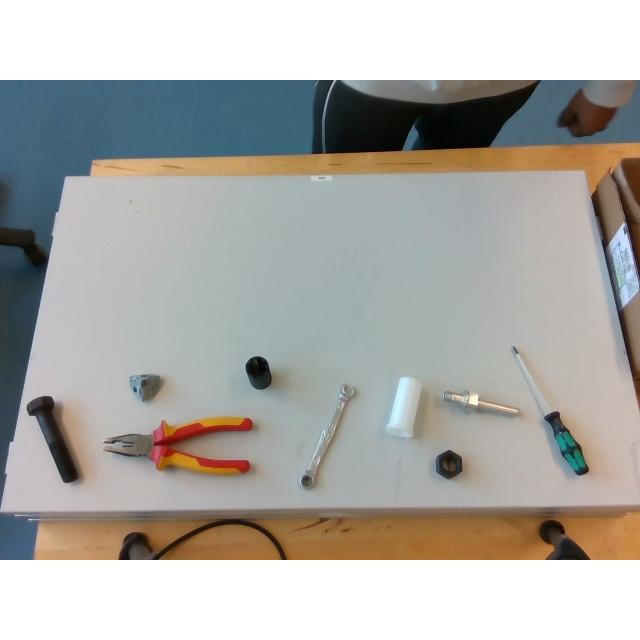M20: (434, 450, 462, 478)
M20_100: (26, 396, 78, 482)
Screwdriver: (511, 345, 589, 475)
Spacer: (385, 377, 421, 437)
Wrench: (299, 384, 355, 488)
